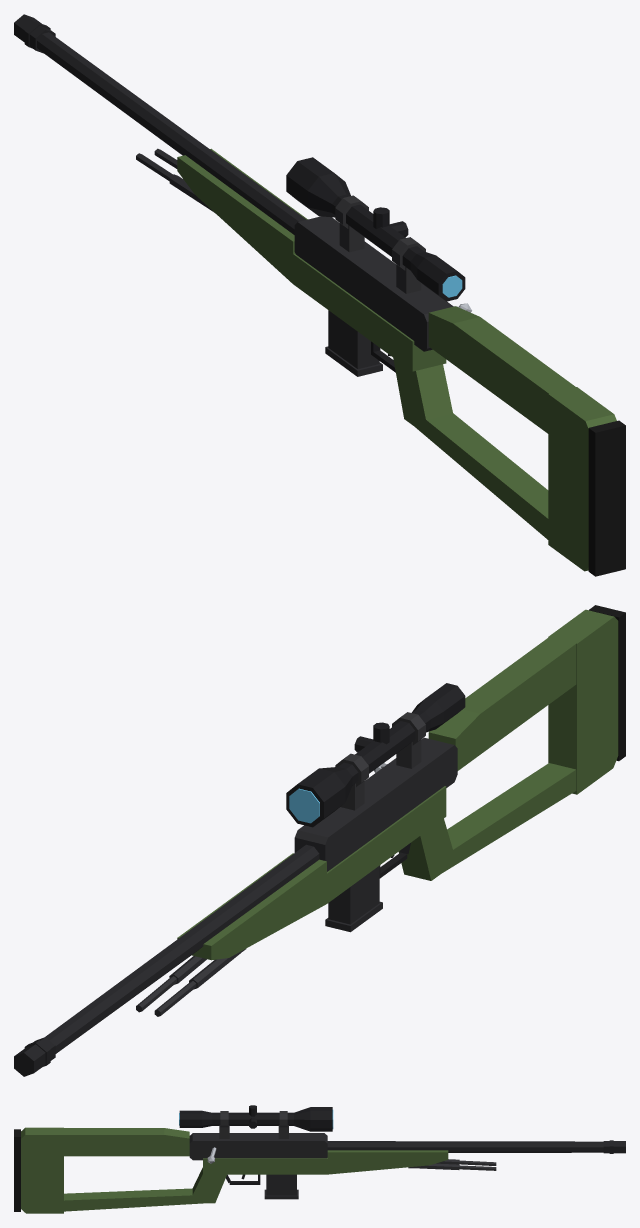
The model's file is Frostbite.obj.
3 views of the same model, one above another, from view 1: azimuth 30°, elevation 25°; view 2: azimuth 150°, elevation 25°; view 3: azimuth 270°, elevation 25° (orthographic). The views are drawn at different scales.
Visible parts, largest first — view 1: Stock, Body, Barrel, Scope, Pad, Magazine, Mount, Bipod, Muzzle; view 2: Stock, Body, Barrel, Scope, Magazine, Mount, Bipod, Pad, Muzzle, Lens; view 3: Stock, Body, Barrel, Scope, Magazine, Bipod, Pad, Mount, Muzzle, Trigger.
Boxes of the visible parts, bbox=[...] form: Stock: bbox=[177, 148, 616, 571]; Body: bbox=[294, 216, 453, 351]; Barrel: bbox=[37, 32, 306, 234]; Scope: bbox=[286, 157, 465, 301]; Pad: bbox=[588, 420, 625, 576]; Magazine: bbox=[325, 310, 382, 376]; Mount: bbox=[335, 195, 425, 293]; Bipod: bbox=[136, 148, 215, 213]; Muzzle: bbox=[14, 14, 55, 53]; Stock: bbox=[177, 609, 618, 960]; Body: bbox=[294, 737, 457, 871]; Barrel: bbox=[45, 844, 319, 1053]; Scope: bbox=[286, 683, 465, 827]; Magazine: bbox=[325, 866, 382, 932]; Mount: bbox=[335, 712, 425, 810]; Bipod: bbox=[136, 949, 245, 1016]; Pad: bbox=[589, 605, 625, 761]; Muzzle: bbox=[14, 1037, 55, 1076]; Lens: bbox=[289, 788, 319, 823]; Stock: bbox=[21, 1127, 448, 1213]; Body: bbox=[189, 1133, 327, 1160]; Barrel: bbox=[327, 1141, 603, 1152]; Scope: bbox=[179, 1105, 332, 1131]; Magazine: bbox=[264, 1174, 298, 1199]; Bipod: bbox=[408, 1159, 496, 1170]; Pad: bbox=[14, 1129, 20, 1211]; Mount: bbox=[219, 1111, 288, 1138]; Muzzle: bbox=[603, 1140, 625, 1153]; Trigger: bbox=[226, 1174, 260, 1184].
Size of the model in its own units: 0.3966 by 1.12 by 5.99.
